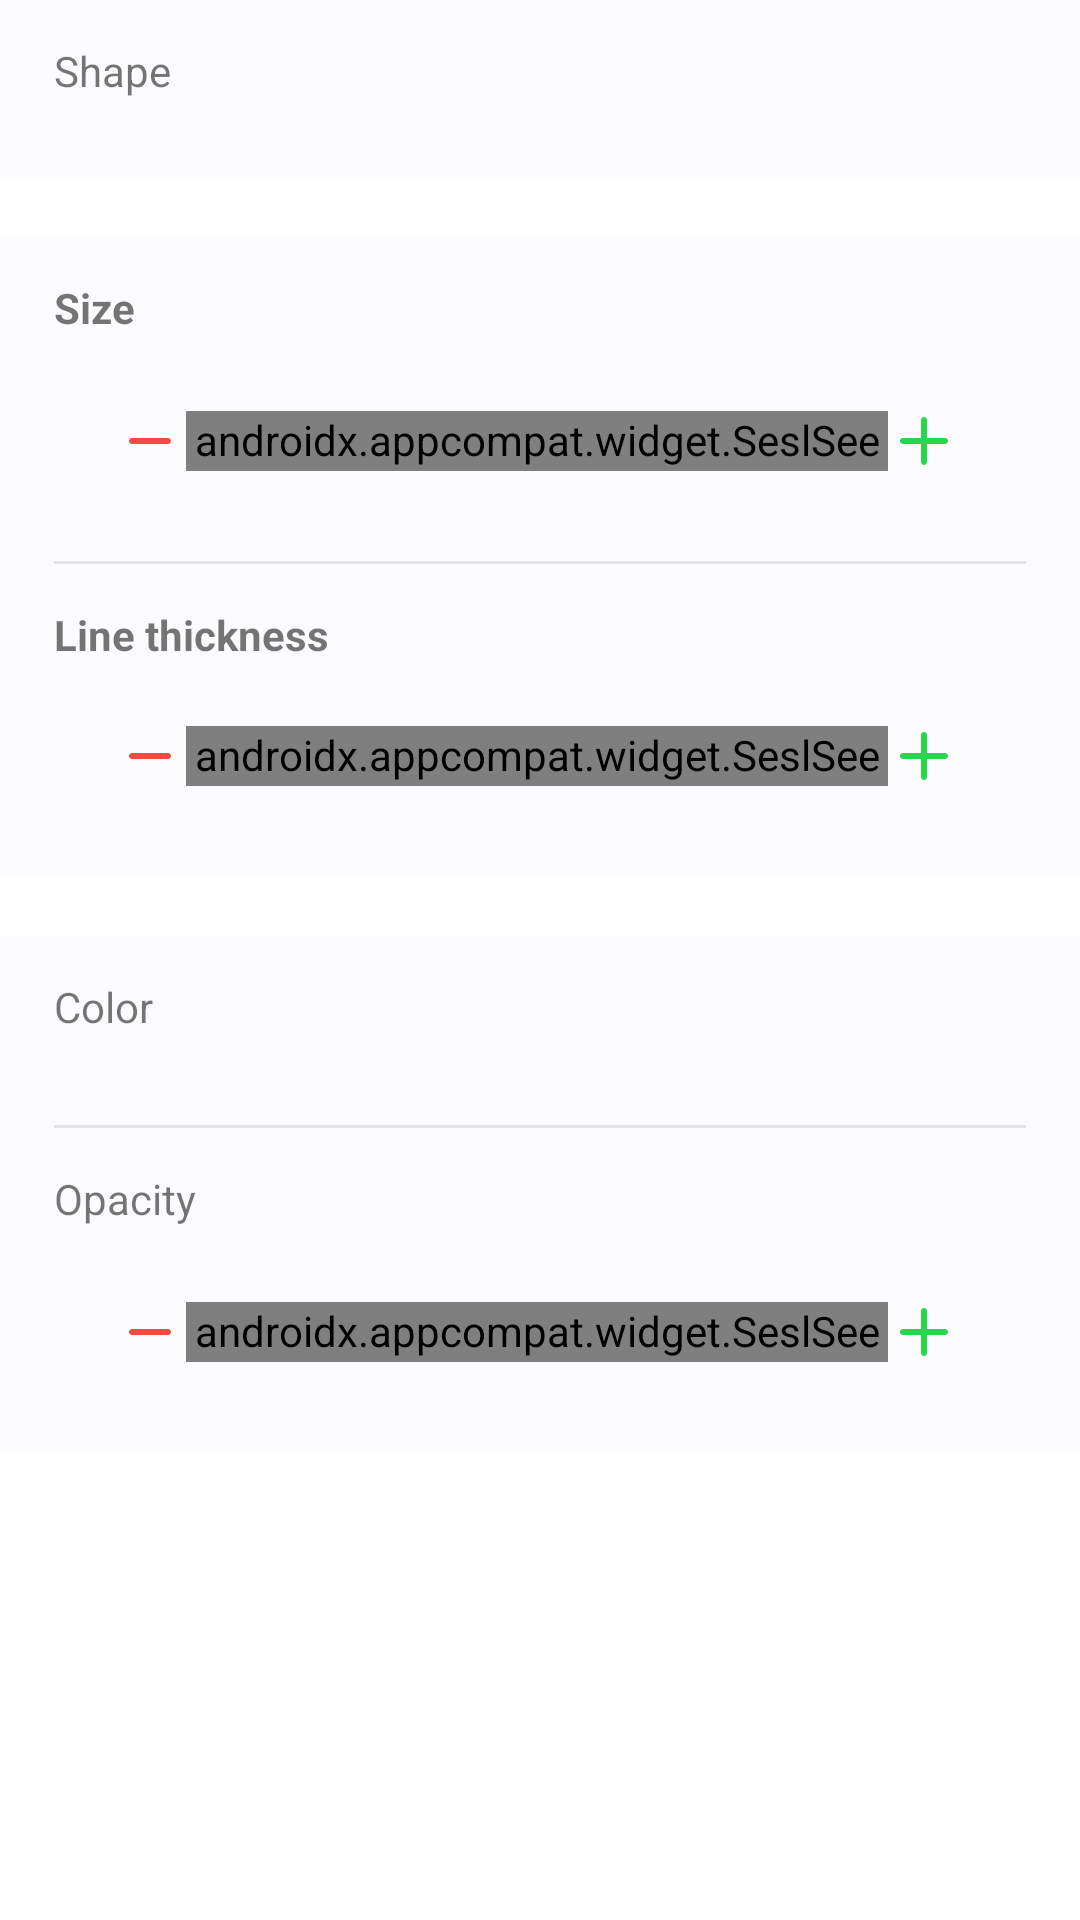

Point at icon controls on the screen. Image size 1080w x 1920h, points as (x=x, y=y).
Increase opacity: (x=924, y=1332)
Increase size: (x=924, y=441)
Increase thickness: (x=924, y=756)
